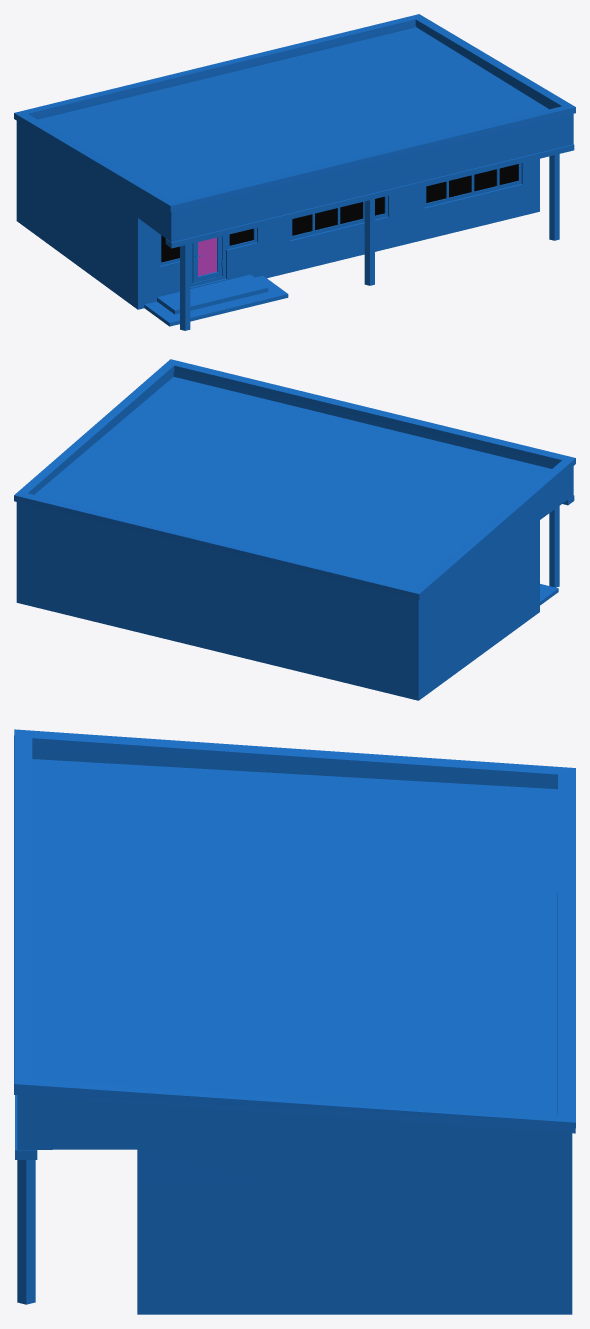
File: SM_shop.fbx
3 renders of one model, top to bottom at view 1: azimuth 30°, elevation 25°; view 2: azimuth 150°, elevation 25°; view 3: azimuth 270°, elevation 25°, orthographic. The views are drawn at different scales.
Visible parts, largest first — view 1: Boole_10, Cylinder_9; view 2: Boole_10; view 3: Boole_10.
Boxes of the visible parts, bbox=[...] form: Boole_10: bbox=[14, 14, 575, 330]; Cylinder_9: bbox=[192, 236, 223, 282]; Boole_10: bbox=[14, 359, 575, 700]; Boole_10: bbox=[14, 729, 575, 1314].
Size of the model in its own units: 1483 by 452 by 993.
